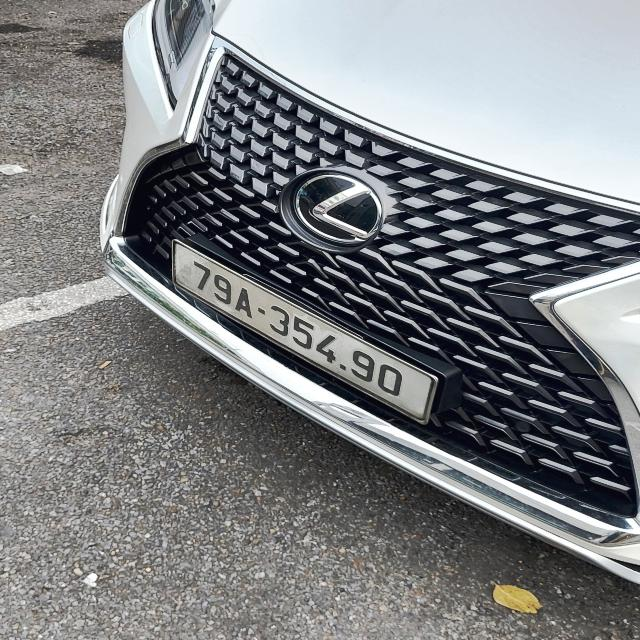license_plate: (171, 245, 442, 426)
